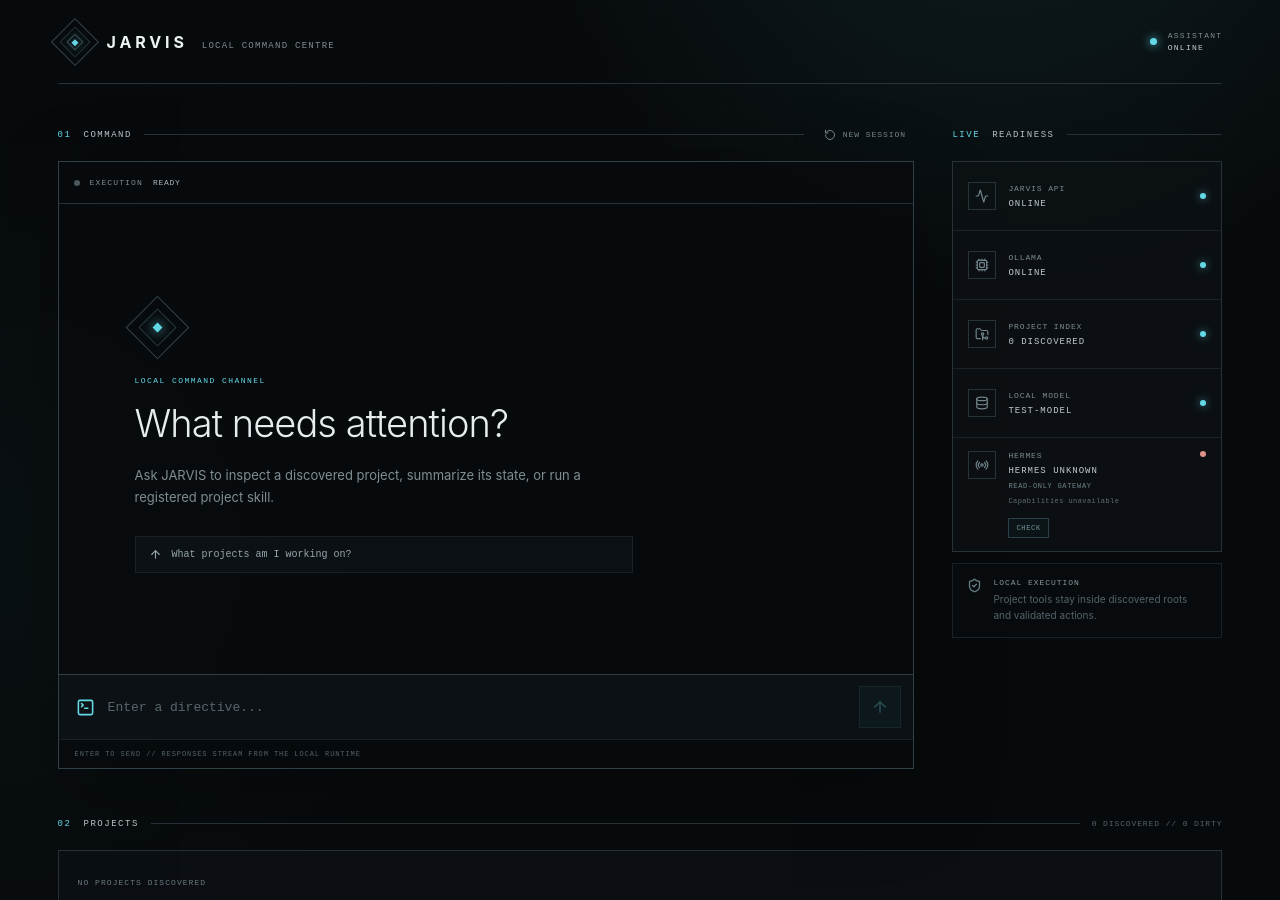
Test case: Dashboard › shows a graceful runtime error when Ollama becomes unavailable
Expected: the text "ONLINE" below "ASSISTANT" is shown, [1168,43,1204,52]
Type "Status" into the field named "Enter a command".
click(477, 707); type("Status")  # box [108,686,846,728]
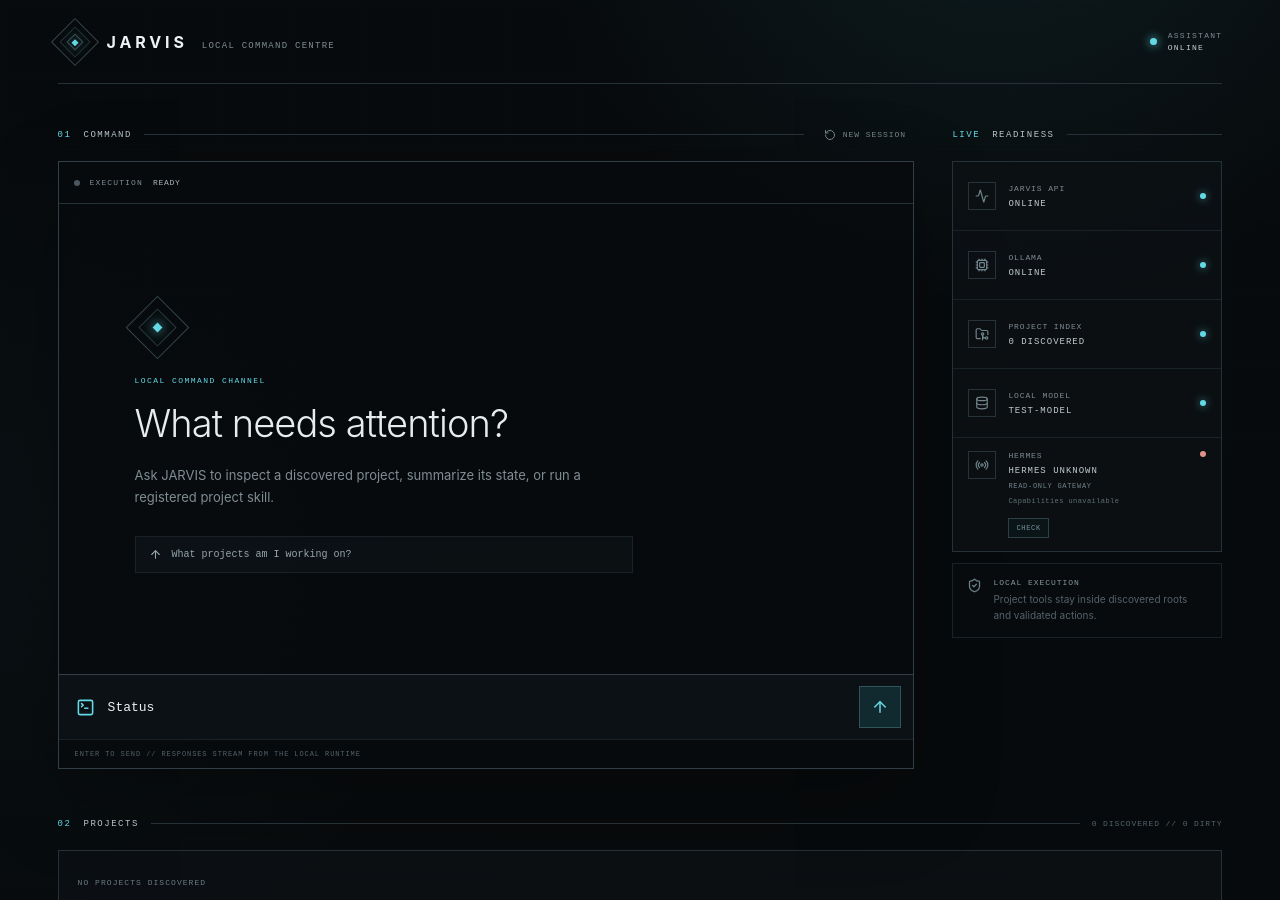
Click the button named "Send message".
click(880, 707)  # box [859,686,901,728]
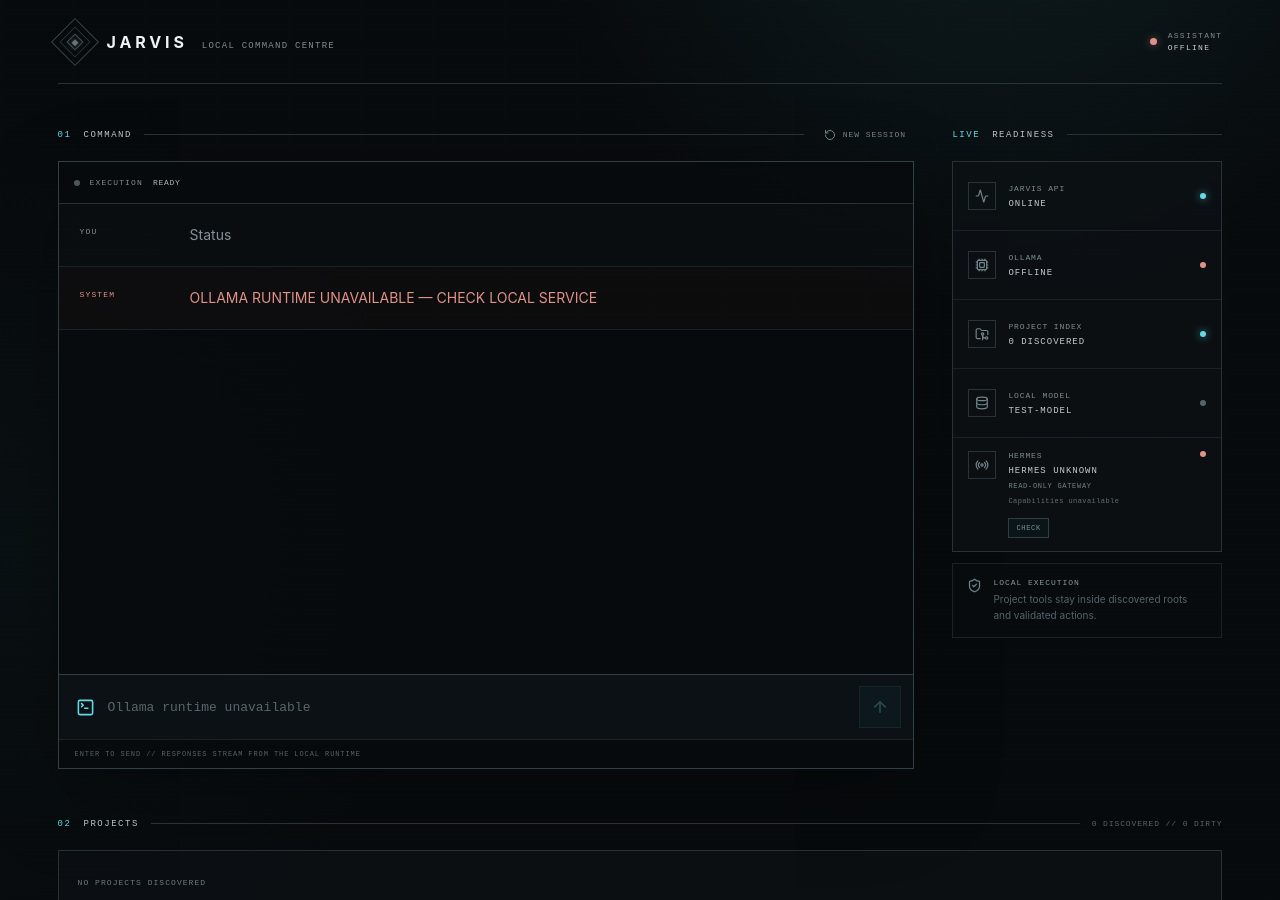
Now the text "OLLAMA RUNTIME UNAVAILABLE — CHECK LOCAL SERVICE" is shown, box [190,289,597,306]
Now the field named "Enter a command" is disabled, box [108,686,846,728]
